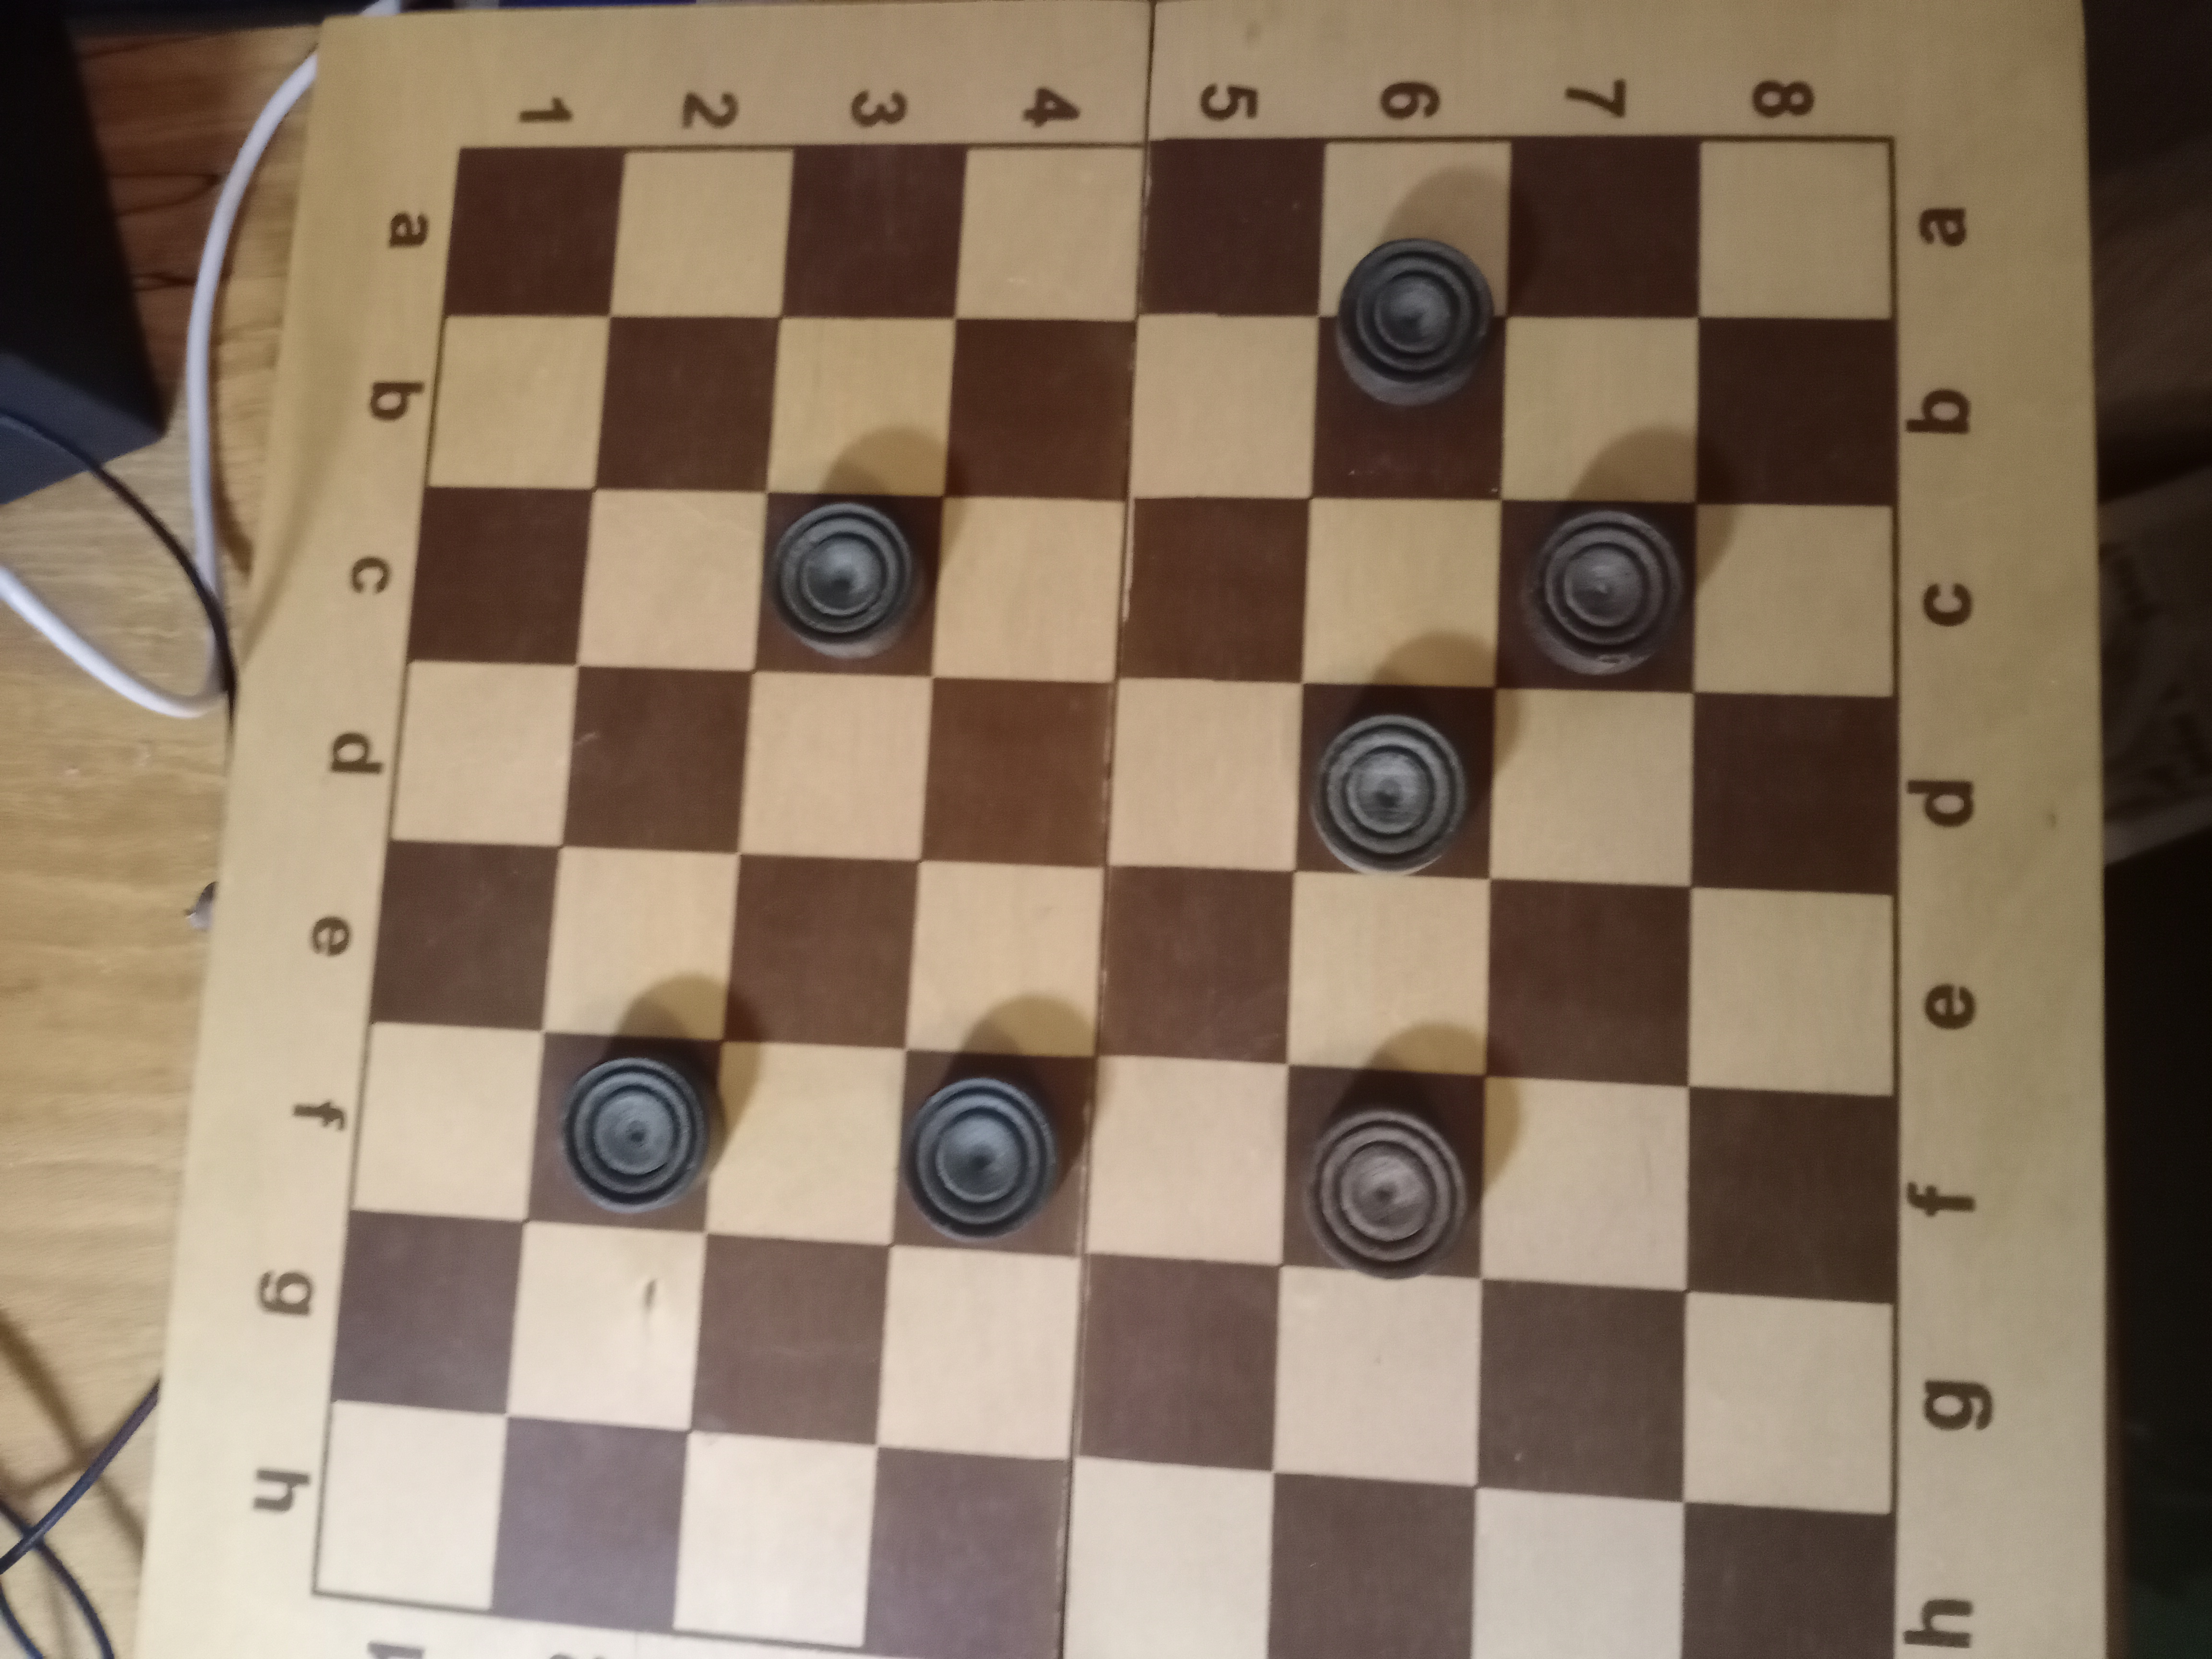Black_Draught: (1310, 239, 1507, 502), (1282, 1065, 1484, 1283), (890, 1051, 1096, 1258), (523, 1032, 725, 1234), (1292, 687, 1496, 882), (1498, 498, 1698, 694), (754, 493, 944, 676)
